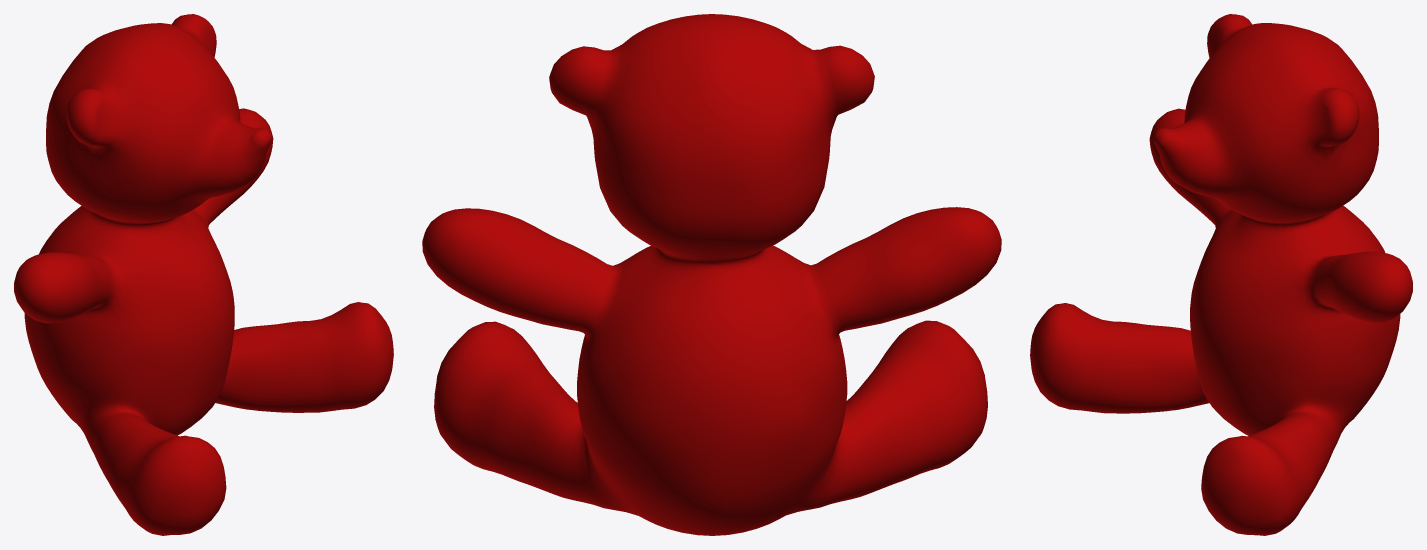
File: oso_arboles.glb
3 views of the same model, side by side, from view 1: azimuth 30°, elevation 25°; view 2: azimuth 150°, elevation 25°; view 3: azimuth 270°, elevation 25° (orthographic). The views are drawn at different scales.
Visible parts, largest first — view 1: Oso_Base03:Group42068; view 2: Oso_Base03:Group42068; view 3: Oso_Base03:Group42068.
Boxes of the visible parts, x1=… form: Oso_Base03:Group42068: x1=14, y1=14, x2=393, y2=535; Oso_Base03:Group42068: x1=422, y1=14, x2=1001, y2=535; Oso_Base03:Group42068: x1=1030, y1=14, x2=1412, y2=535.
Bounding box in the file's own units: 4.95 × 4.74 × 4.05.
